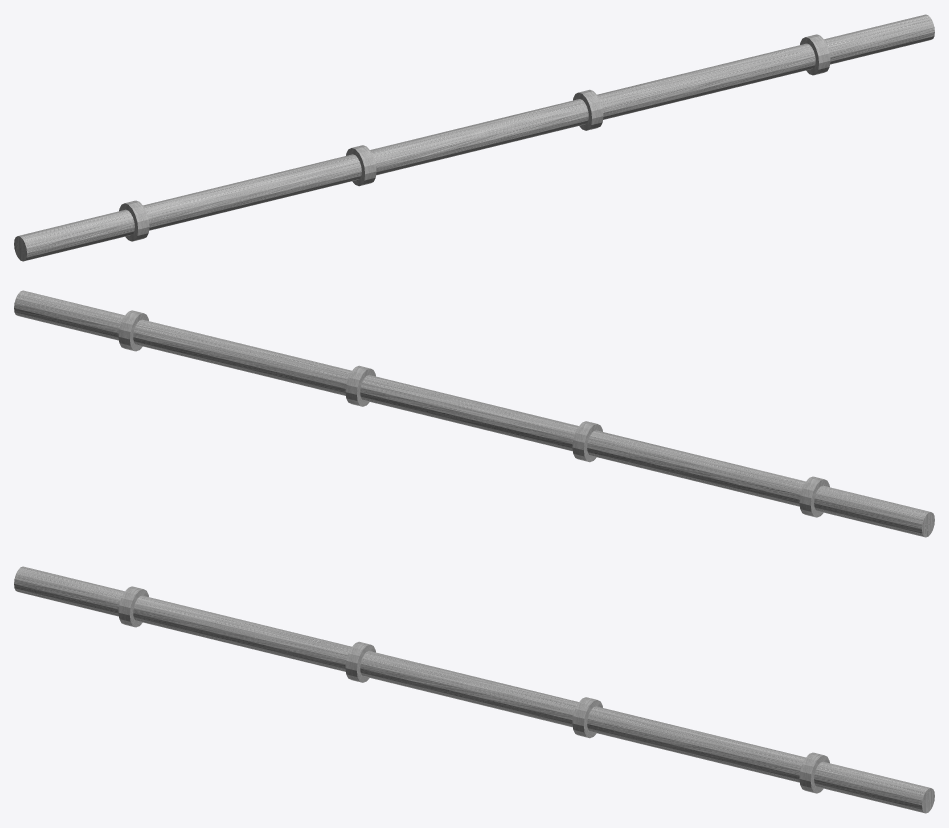
The model's file is pipe.fbx.
3 renders of one model, top to bottom at view 1: azimuth 30°, elevation 25°; view 2: azimuth 150°, elevation 25°; view 3: azimuth 330°, elevation 25°, orthographic.
Visible parts, largest first — view 1: pipe, pipe-seal.001, pipe-seal.003, pipe-seal.002, pipe-seal; view 2: pipe, pipe-seal.001, pipe-seal.003, pipe-seal.002, pipe-seal; view 3: pipe, pipe-seal.001, pipe-seal.003, pipe-seal, pipe-seal.002.
Part boxes in pixels (<box>): pipe: <box>14,14,934,261</box>; pipe-seal.001: <box>119,200,149,241</box>; pipe-seal.003: <box>800,34,830,75</box>; pipe-seal.002: <box>573,89,603,130</box>; pipe-seal: <box>346,145,376,186</box>; pipe: <box>14,290,934,537</box>; pipe-seal.001: <box>799,476,829,517</box>; pipe-seal.003: <box>118,310,148,351</box>; pipe-seal.002: <box>345,365,375,406</box>; pipe-seal: <box>572,421,602,462</box>; pipe: <box>14,566,934,813</box>; pipe-seal.001: <box>118,586,148,627</box>; pipe-seal.003: <box>799,752,829,793</box>; pipe-seal: <box>345,641,375,682</box>; pipe-seal.002: <box>572,697,602,738</box>.
Bounding box in the file's own units: 800 × 30 × 30.
Materials: 4 (4 with a texture image).
